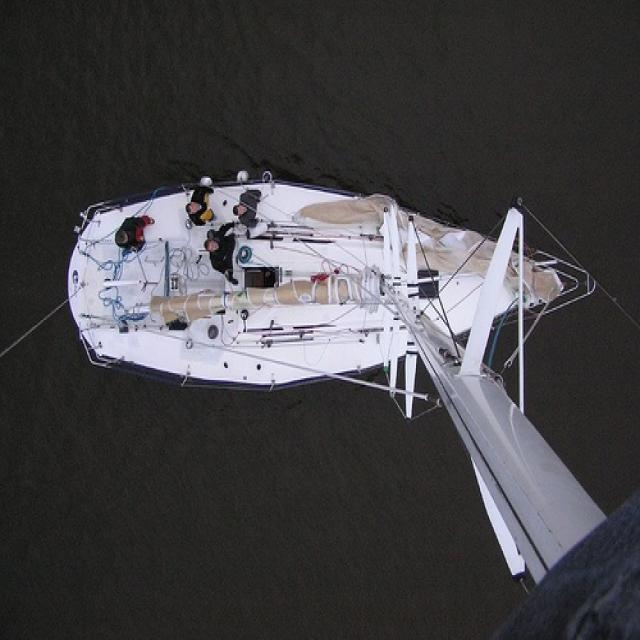boat: (68, 171, 599, 407)
person: (202, 222, 240, 287), (111, 215, 156, 256), (234, 184, 263, 232), (184, 183, 214, 226)
